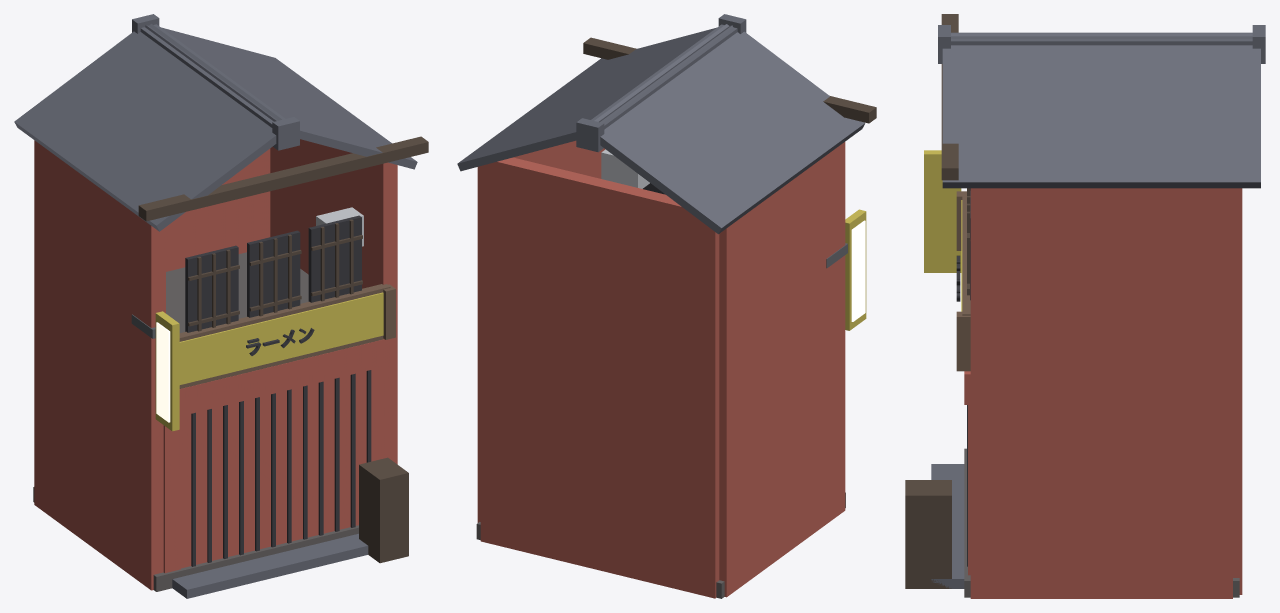
File: prop_shop_ramen_closed.glb
3 renders of one model, left to right at view 1: azimuth 30°, elevation 25°; view 2: azimuth 150°, elevation 25°; view 3: azimuth 270°, elevation 25°, orthographic. The views are drawn at different scales.
Visible parts, largest first — view 1: shop_ramen_closed; view 2: shop_ramen_closed; view 3: shop_ramen_closed.
Part boxes in pixels (x1=…): shop_ramen_closed: x1=14, y1=14, x2=428, y2=598; shop_ramen_closed: x1=457, y1=14, x2=876, y2=598; shop_ramen_closed: x1=905, y1=14, x2=1265, y2=598.
Size of the model in its own units: 3.9 by 5.9 by 3.85.
